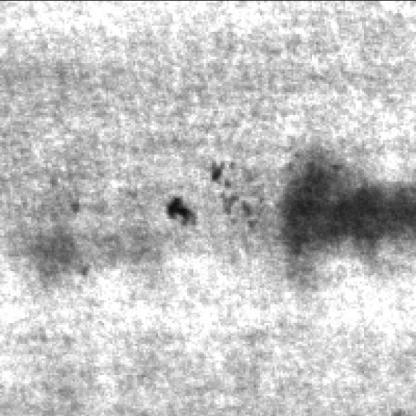patches: (287, 156, 416, 255)
